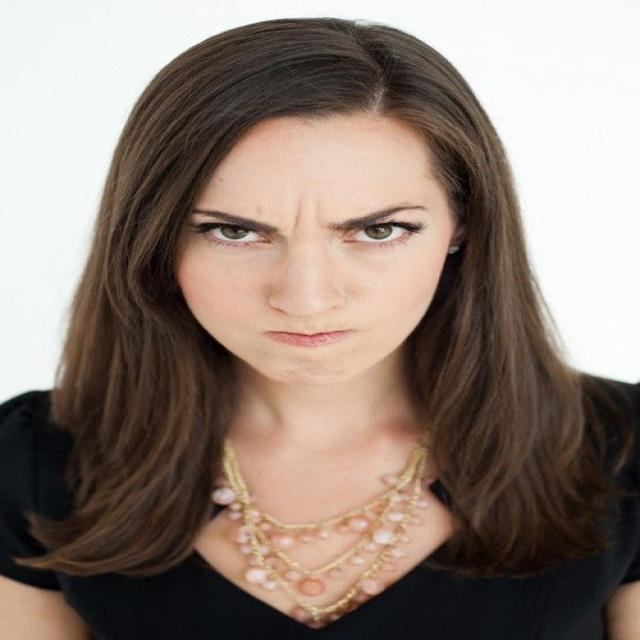sem_oculos: (159, 199, 507, 255)
